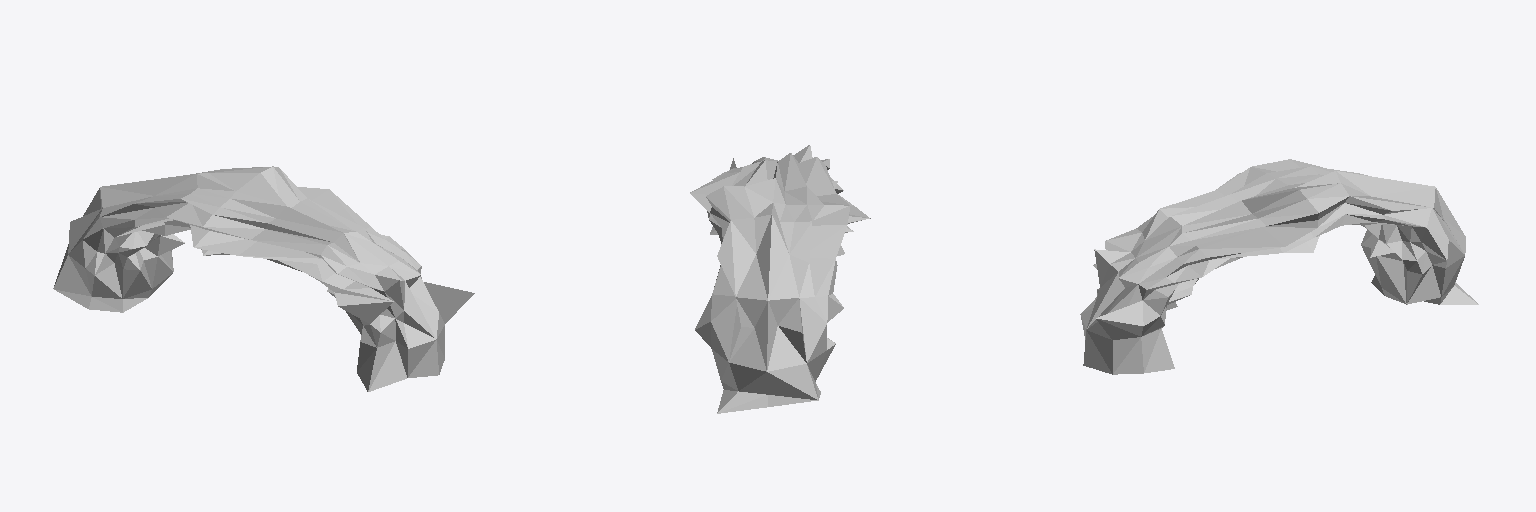
3 views of the same model, side by side, from view 1: azimuth 30°, elevation 25°; view 2: azimuth 150°, elevation 25°; view 3: azimuth 270°, elevation 25° (orthographic).
Visible parts, largest first — view 1: IceBergUshapeBig_Cube.007; view 2: IceBergUshapeBig_Cube.007; view 3: IceBergUshapeBig_Cube.007.
Part boxes in pixels (left/top/right/bottom): IceBergUshapeBig_Cube.007: left=53, top=166, right=474, bottom=391; IceBergUshapeBig_Cube.007: left=690, top=145, right=870, bottom=413; IceBergUshapeBig_Cube.007: left=1080, top=159, right=1478, bottom=374.
Bounding box in the file's own units: 33.78 × 18.61 × 46.08.